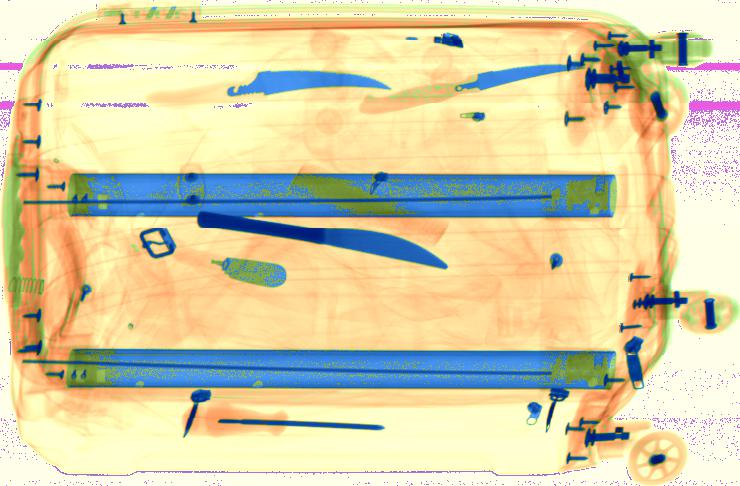Knife: (197, 209, 448, 270), (358, 61, 584, 115), (143, 71, 392, 109), (177, 249, 287, 289)
